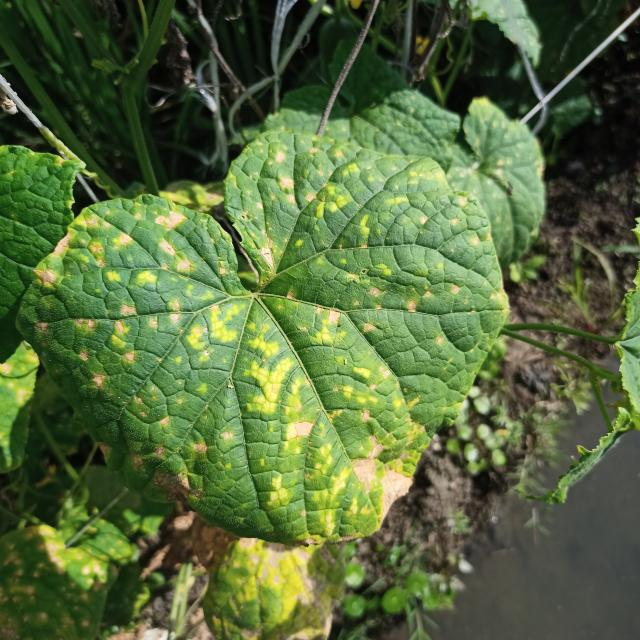disease_cucumber: (19, 132, 477, 534)
